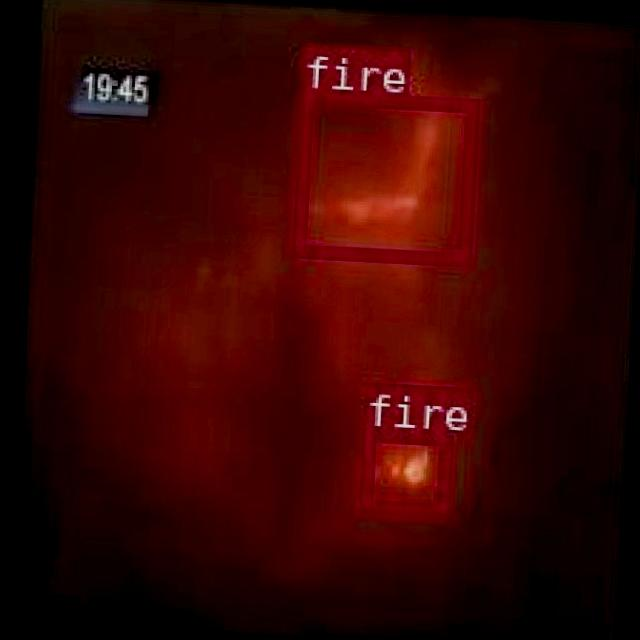fire: (290, 89, 476, 262), (358, 426, 450, 514)
